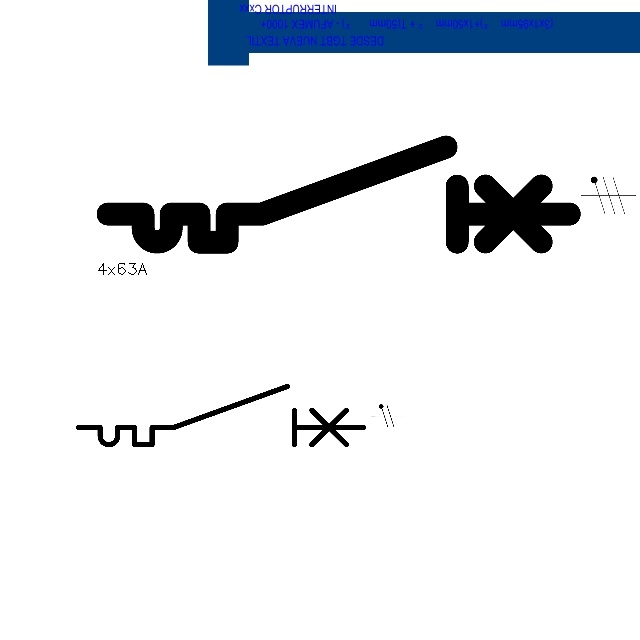interruptor_termomagnetico: (96, 135, 581, 254), (71, 379, 371, 452)
